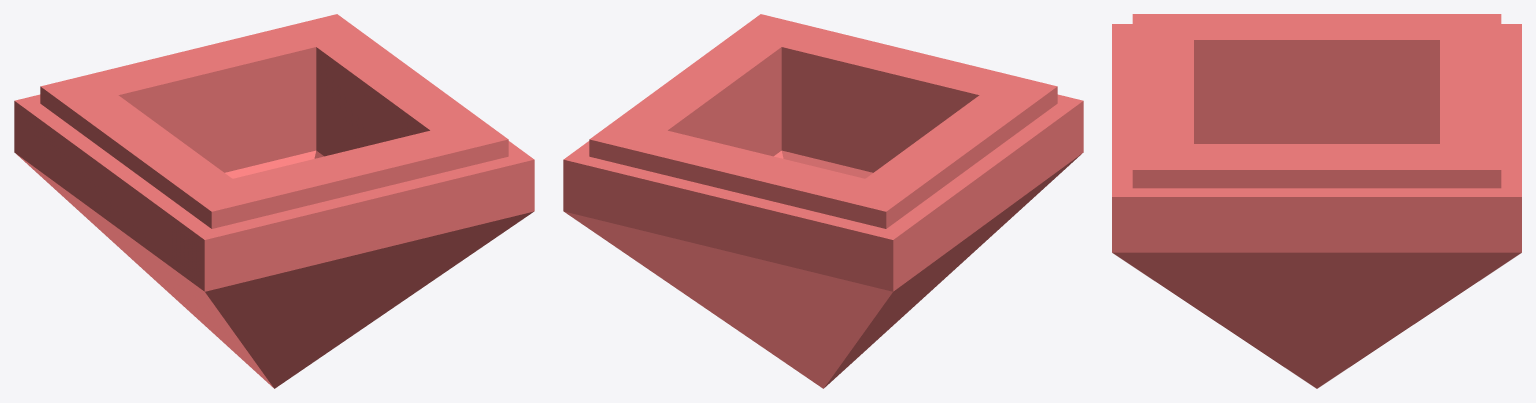
3 views of the same model, side by side, from view 1: azimuth 30°, elevation 25°; view 2: azimuth 150°, elevation 25°; view 3: azimuth 270°, elevation 25° (orthographic). The views are drawn at different scales.
Parts seen in each view (by area): view 1: LDrawPart; view 2: LDrawPart; view 3: LDrawPart.
Boxes of the visible parts, x1,y1,x2,y2 form: LDrawPart: (14, 14, 534, 388); LDrawPart: (563, 14, 1083, 388); LDrawPart: (1112, 14, 1521, 388).
Size of the model in its own units: 0.14 by 0.112 by 0.14.
